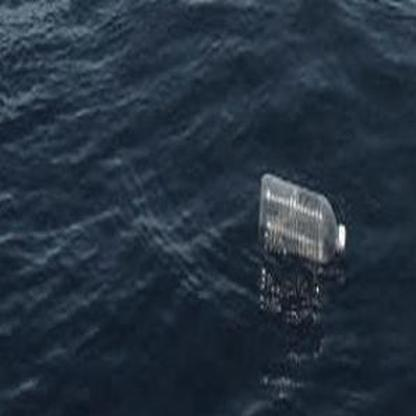plastic bottle: (259, 174, 347, 263)
